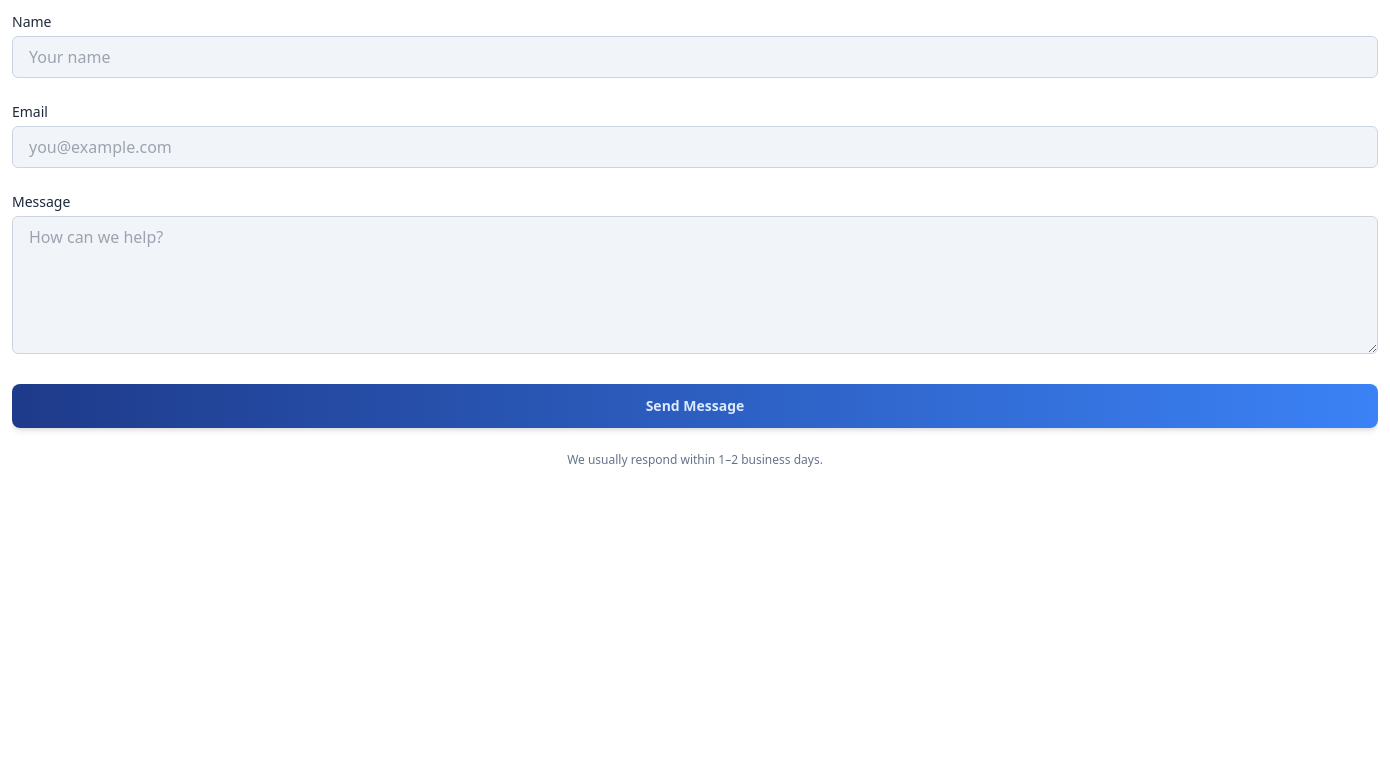
it: shows validation errors on empty submit
The width and height of the screenshot is (1390, 780).
Click the button "Send Message" at (695, 406), box [12,384,1378,428]
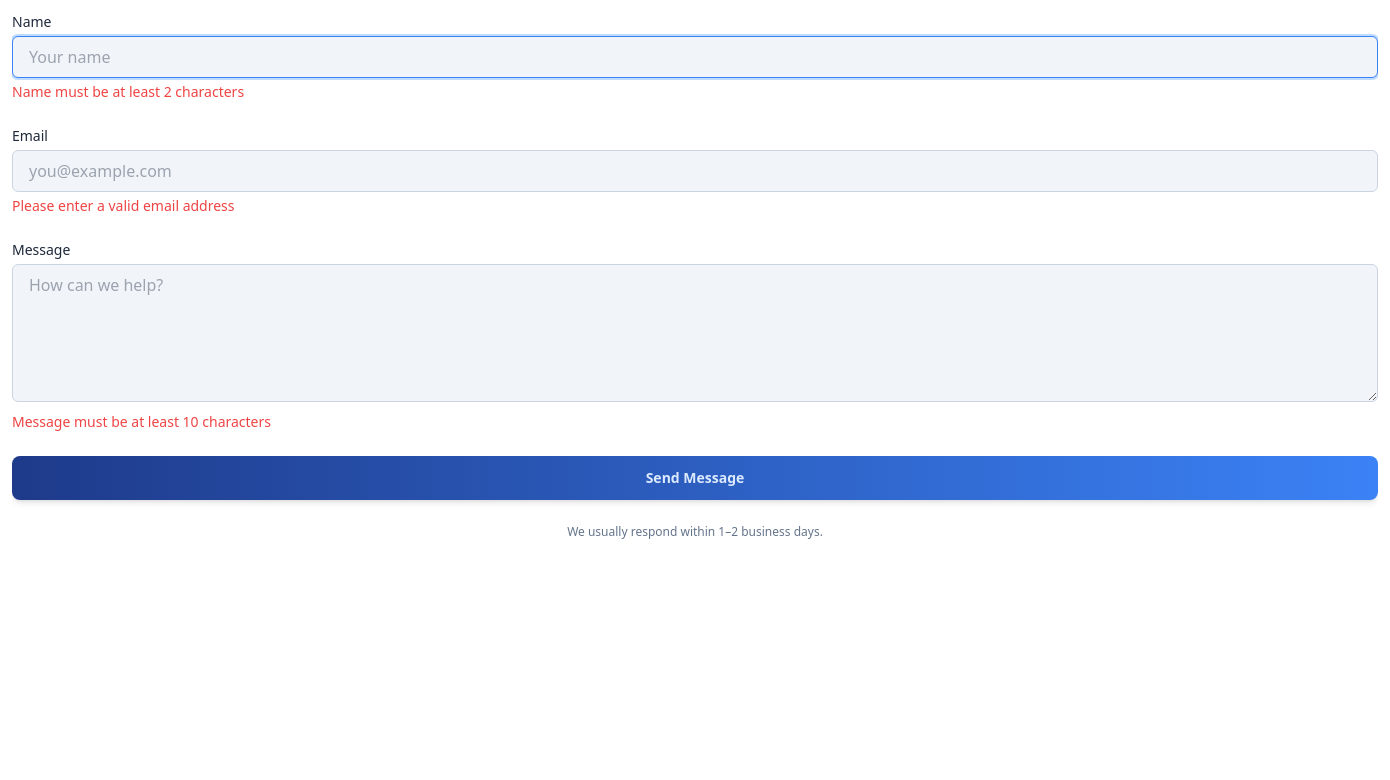
Expected: the text "Name must be at least 2 characters" is shown, [12,82,244,101]
Expected: the text "Please enter a valid email address" is shown, [12,196,234,215]
